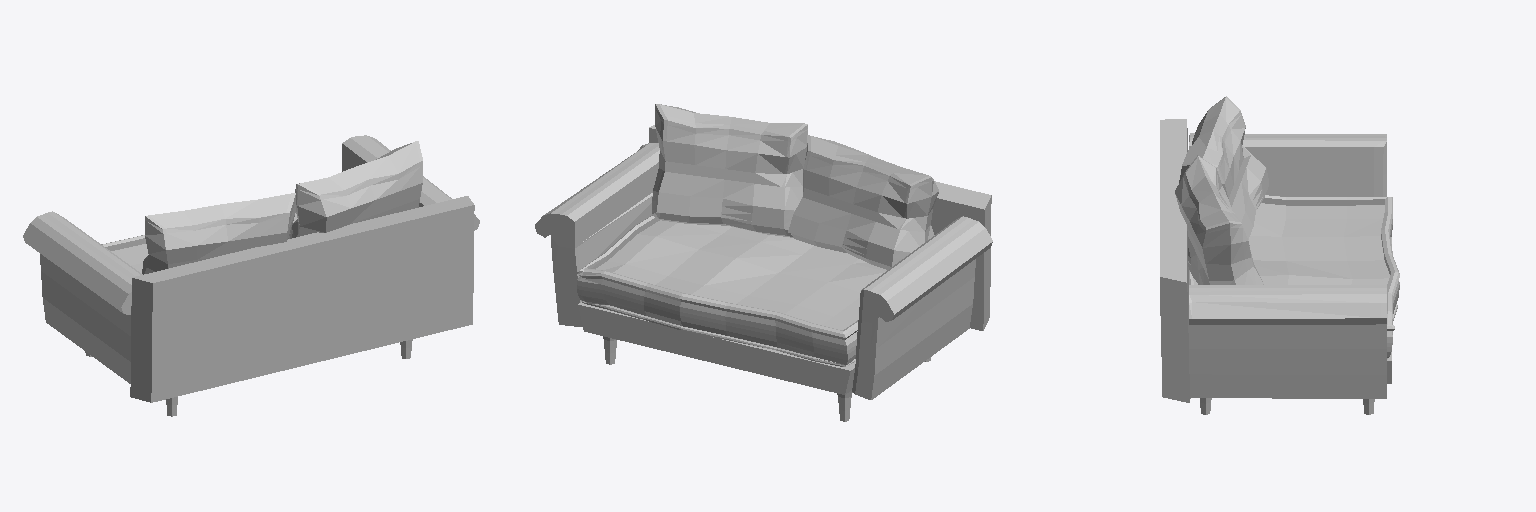
The model's file is Basic_grandma_sofa.obj.
3 views of the same model, side by side, from view 1: azimuth 30°, elevation 25°; view 2: azimuth 150°, elevation 25°; view 3: azimuth 270°, elevation 25° (orthographic).
Visible parts, largest first — view 1: pCylinder6; view 2: pCylinder6; view 3: pCylinder6.
Boxes of the visible parts, x1,y1,x2,y2 form: pCylinder6: [23, 135, 479, 416]; pCylinder6: [535, 104, 992, 421]; pCylinder6: [1160, 96, 1399, 414].
Bounding box in the file's own units: 89.19 × 48.09 × 51.65.